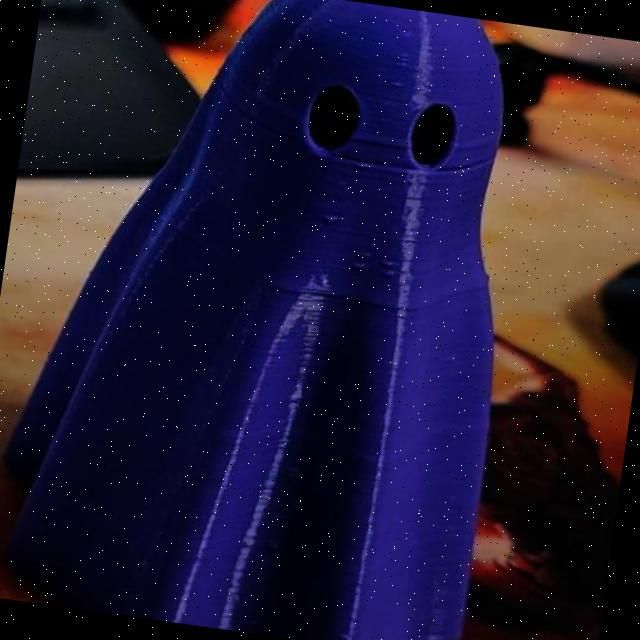blobs: (273, 457, 311, 488), (314, 202, 346, 235), (258, 536, 290, 562), (389, 48, 416, 74), (347, 259, 375, 280), (377, 252, 406, 271), (351, 244, 377, 265), (372, 264, 402, 282), (389, 75, 412, 94)
